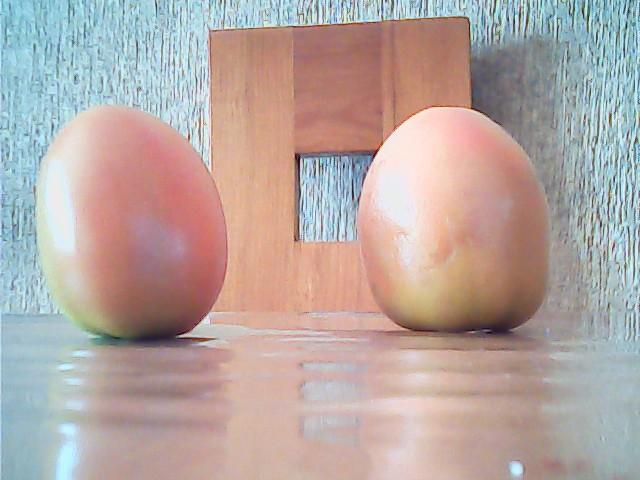verde: (38, 101, 228, 345), (358, 106, 550, 330)
